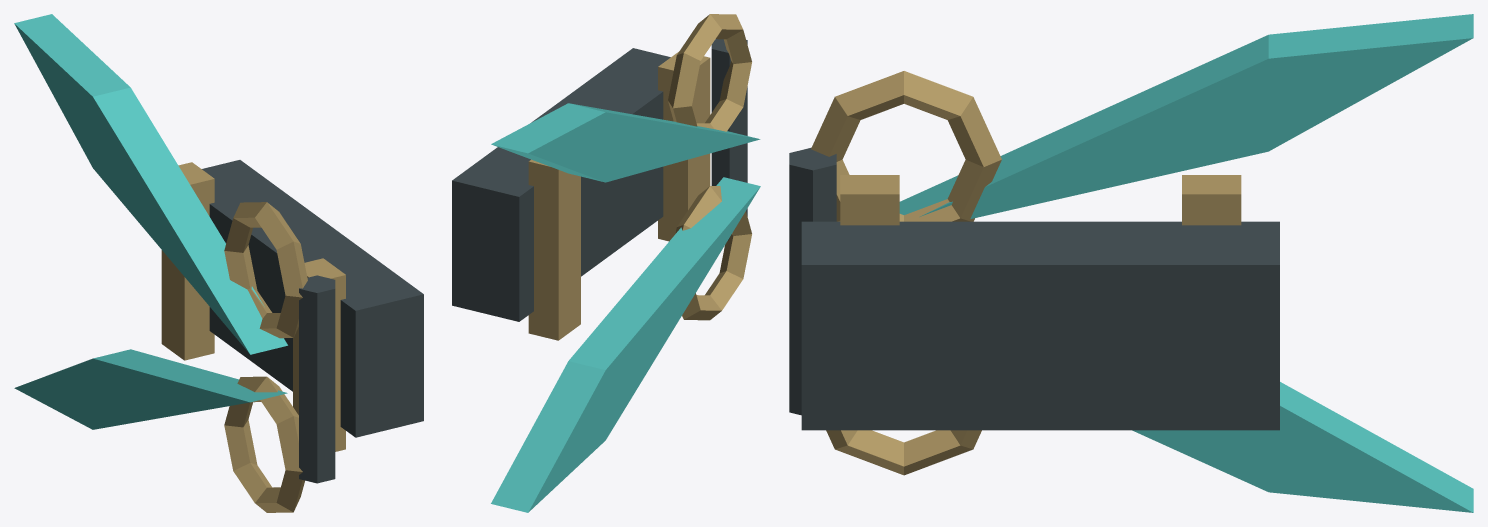
File: Arsenal_EchoForkRail.fbx
3 views of the same model, side by side, from view 1: azimuth 30°, elevation 25°; view 2: azimuth 150°, elevation 25°; view 3: azimuth 270°, elevation 25° (orthographic). The views are drawn at different scales.
Visible parts, largest first — view 1: Arsenal_EchoForkRail; view 2: Arsenal_EchoForkRail; view 3: Arsenal_EchoForkRail.
Part boxes in pixels (box(x1,y1,x2,y2)): Arsenal_EchoForkRail: box(14, 14, 423, 512); Arsenal_EchoForkRail: box(452, 14, 760, 512); Arsenal_EchoForkRail: box(789, 14, 1473, 512).
Size of the model in its own units: 0.1 by 0.23 by 0.3004.
